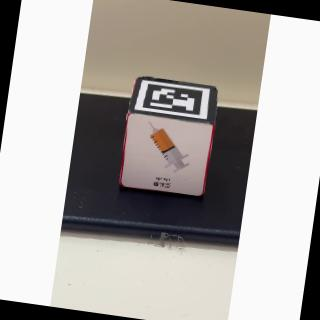Syringe: (119, 110, 214, 196)
